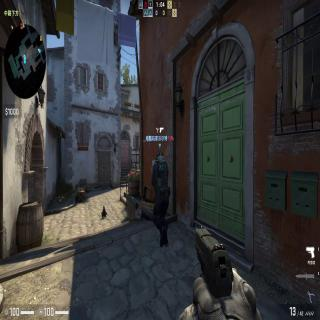CT-Body: (149, 150, 170, 250)
